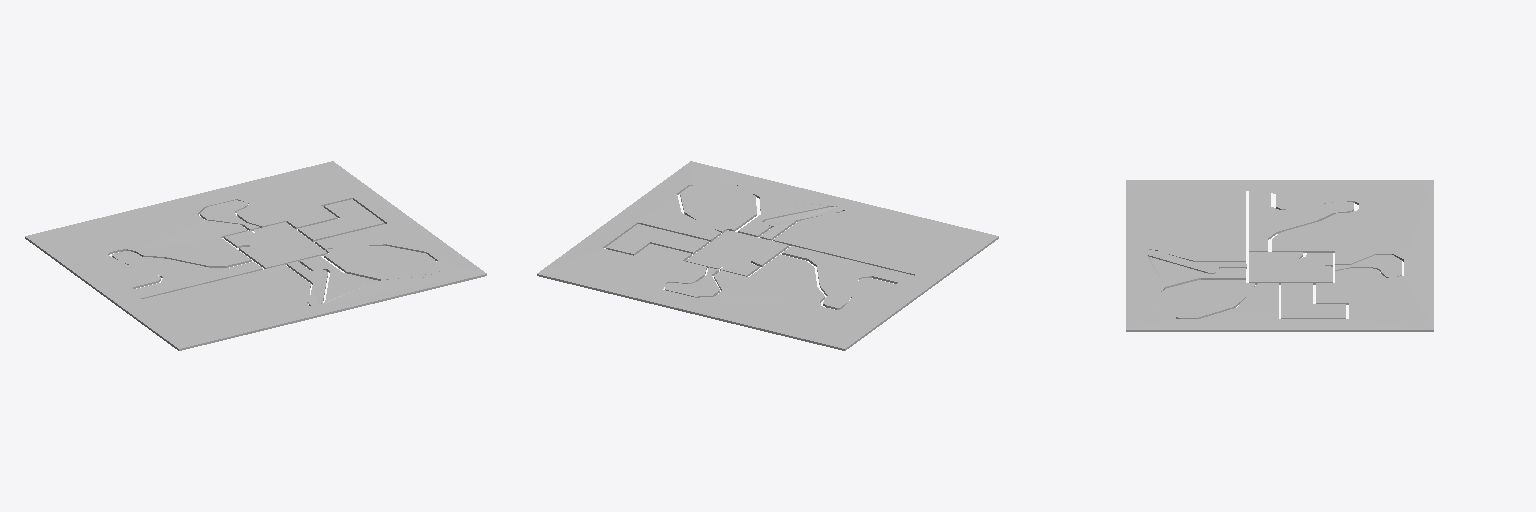
File: venice.obj
3 renders of one model, left to right at view 1: azimuth 30°, elevation 25°; view 2: azimuth 150°, elevation 25°; view 3: azimuth 270°, elevation 25°, orthographic.
Parts seen in each view (by area): view 1: Track_Cube.001, Hitbox_Cube.002; view 2: Track_Cube.001, Hitbox_Cube.002; view 3: Track_Cube.001, Hitbox_Cube.002.
Part boxes in pixels (bbox=[...]): Track_Cube.001: bbox=[25, 161, 486, 350]; Hitbox_Cube.002: bbox=[108, 198, 439, 305]; Track_Cube.001: bbox=[537, 161, 998, 350]; Hitbox_Cube.002: bbox=[603, 185, 914, 309]; Track_Cube.001: bbox=[1126, 180, 1433, 331]; Hitbox_Cube.002: bbox=[1148, 201, 1403, 318].
Size of the model in its own units: 24.42 by 0.1775 by 21.15.